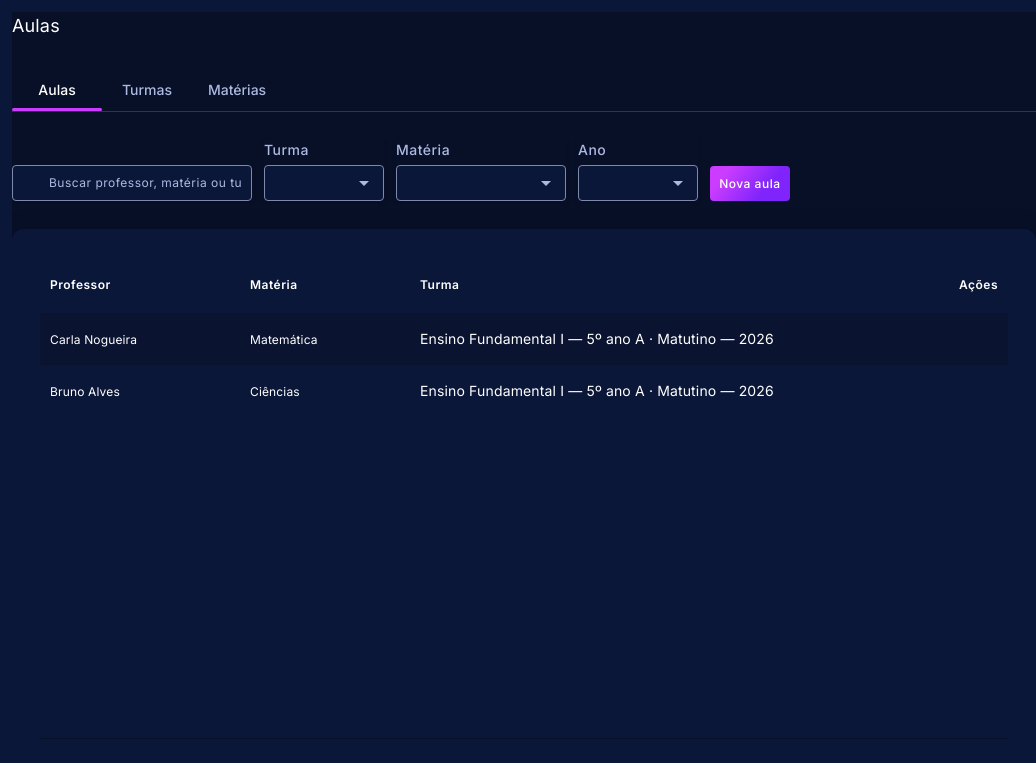
Test: Lessons page › the other tabs › drops the heading inside a tab but keeps the toolbar
Expected: the text "Carla Nogueira" is shown, [50,332,137,347]
Click the tab "Turmas". click: (147, 90)
box: [102,69,192,111]
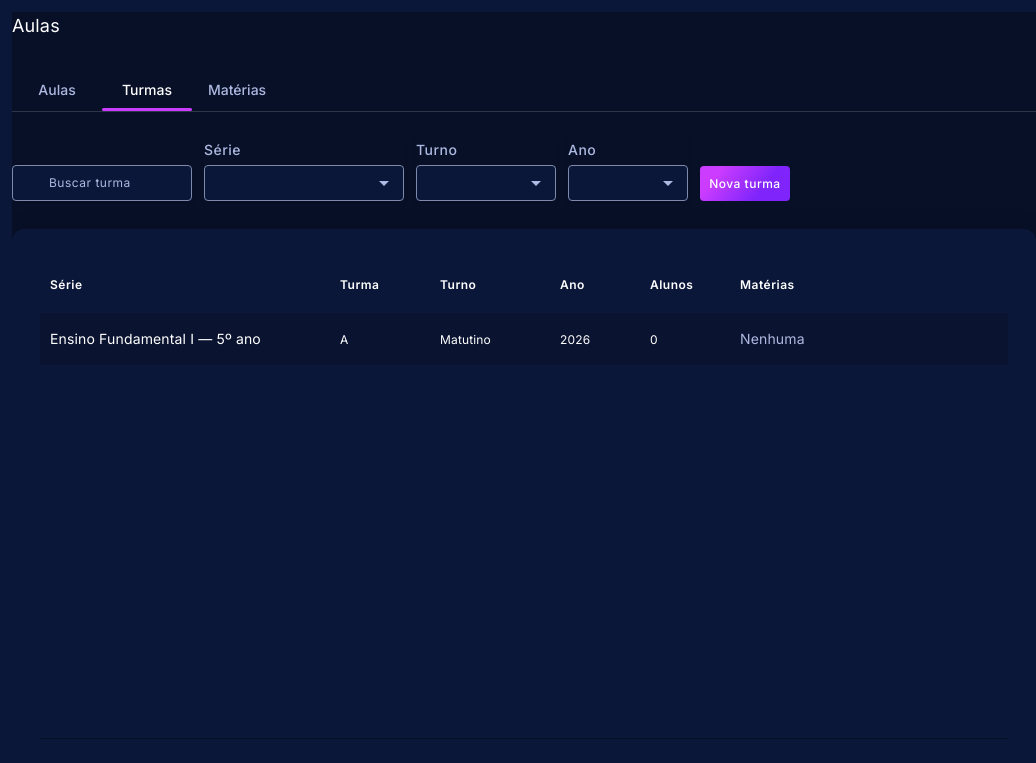
Expected: the number of tabs "Turmas" is 1, [102,69,192,111]
Now the field named "buscar turmas" is shown, box [49,174,181,191]
